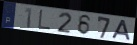1: (24, 7, 34, 30)
2: (56, 12, 73, 35)
6: (76, 14, 91, 36)
7: (97, 15, 111, 39)
A: (111, 19, 132, 42)
L: (37, 10, 52, 31)
